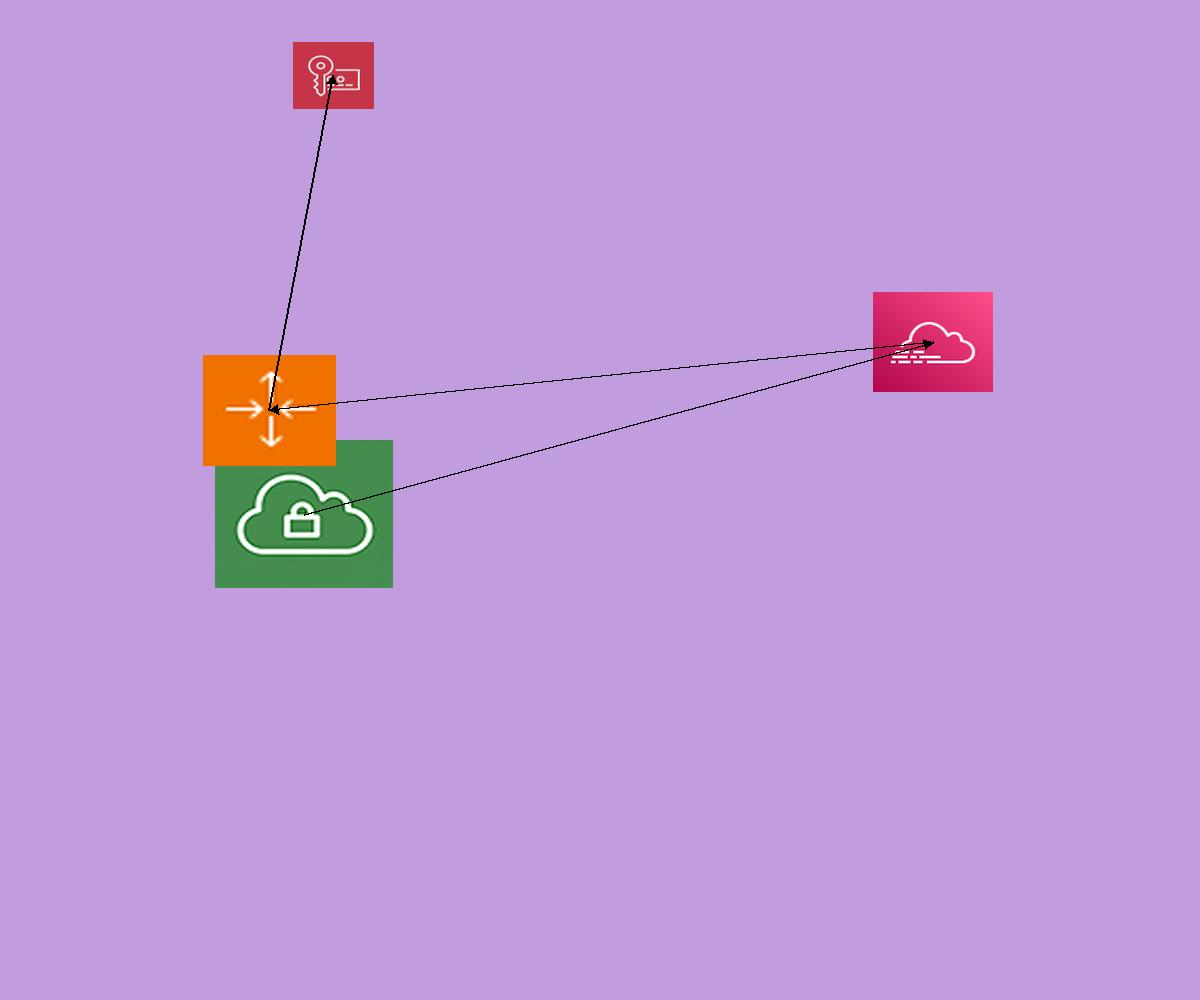AWS-CloudTrail: (873, 292, 993, 392)
AWS-Key-Management-Service: (293, 42, 374, 109)
AWS-Private_vpc: (215, 440, 393, 588)
AWS-Scaling-group: (203, 355, 336, 466)
